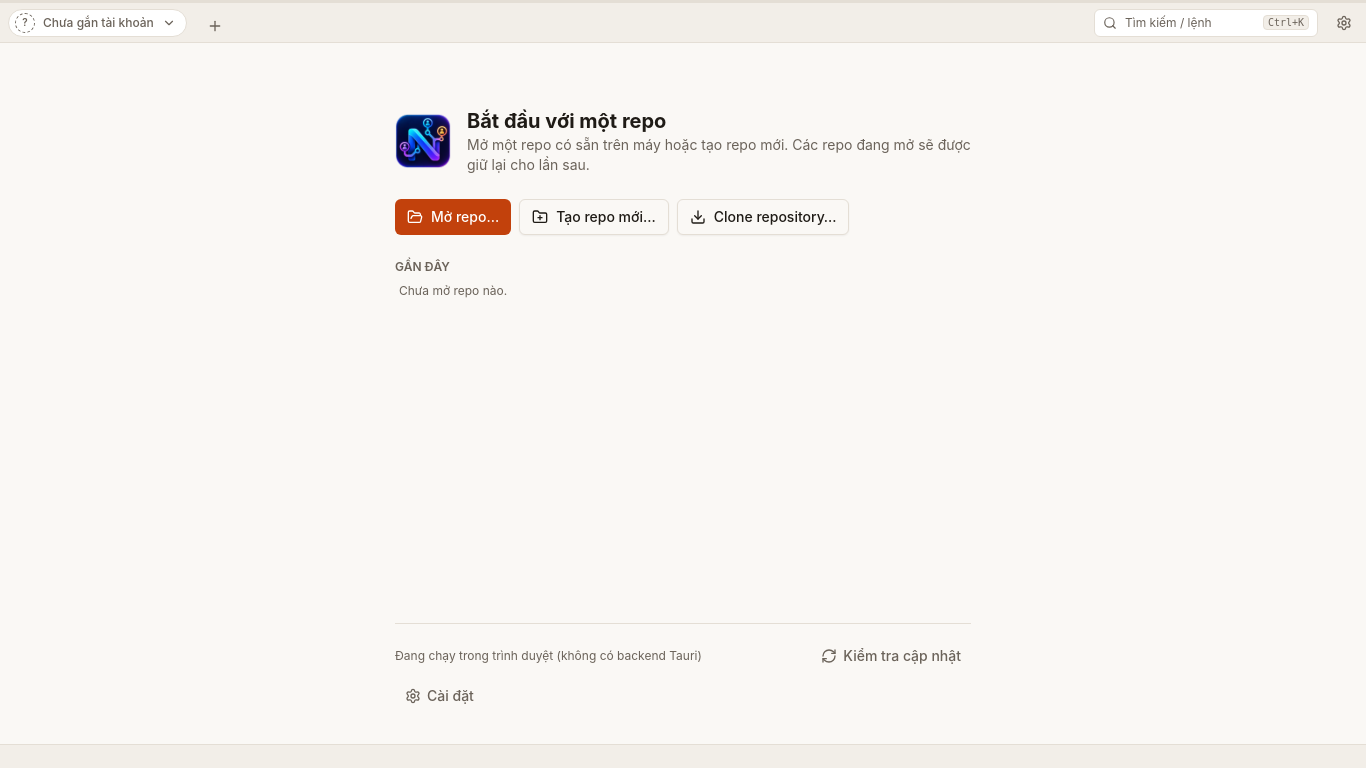
Test: App command palette › opens from the search pill in the top bar
Click the button "Tìm kiếm / lệnh Ctrl+K" at (1206, 22), box [1094,8,1318,36]
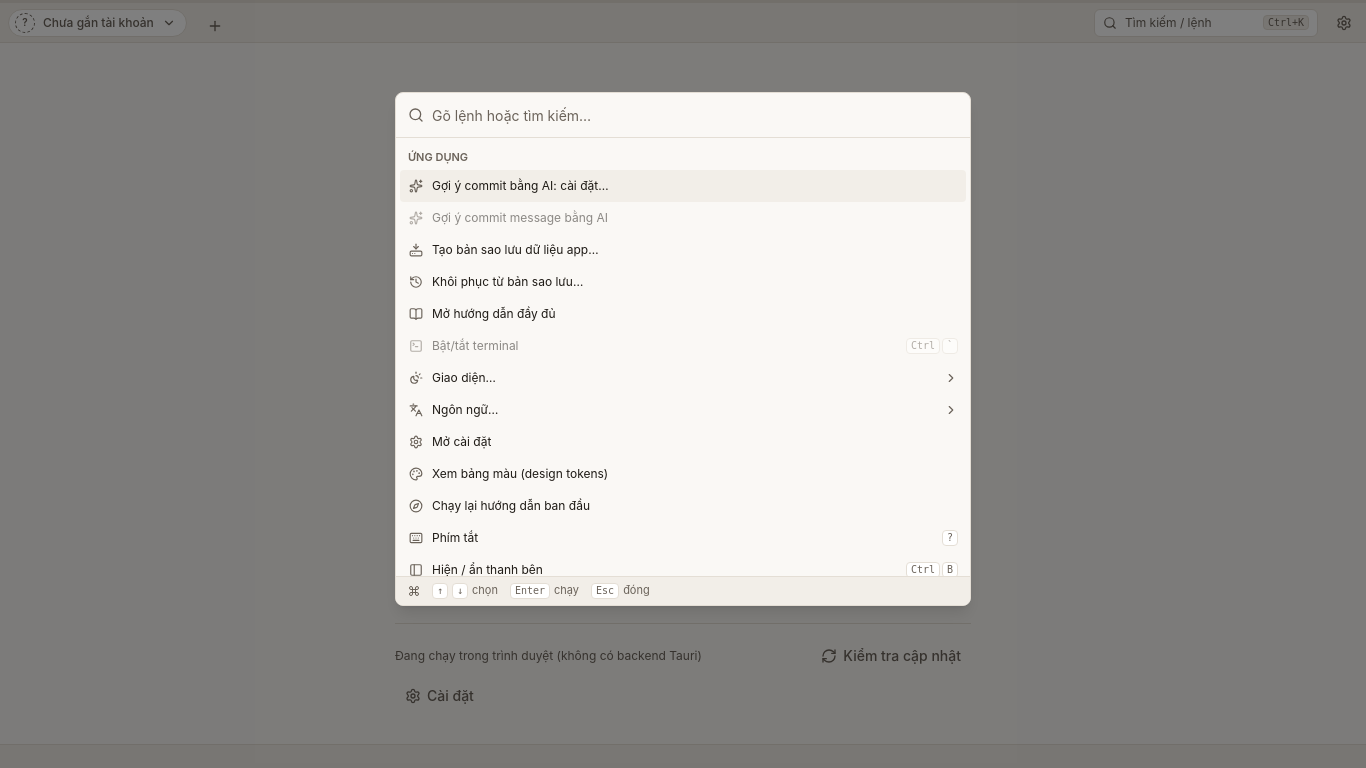
Now the dialog named "Bảng lệnh" is shown, box [395,92,971,606]
